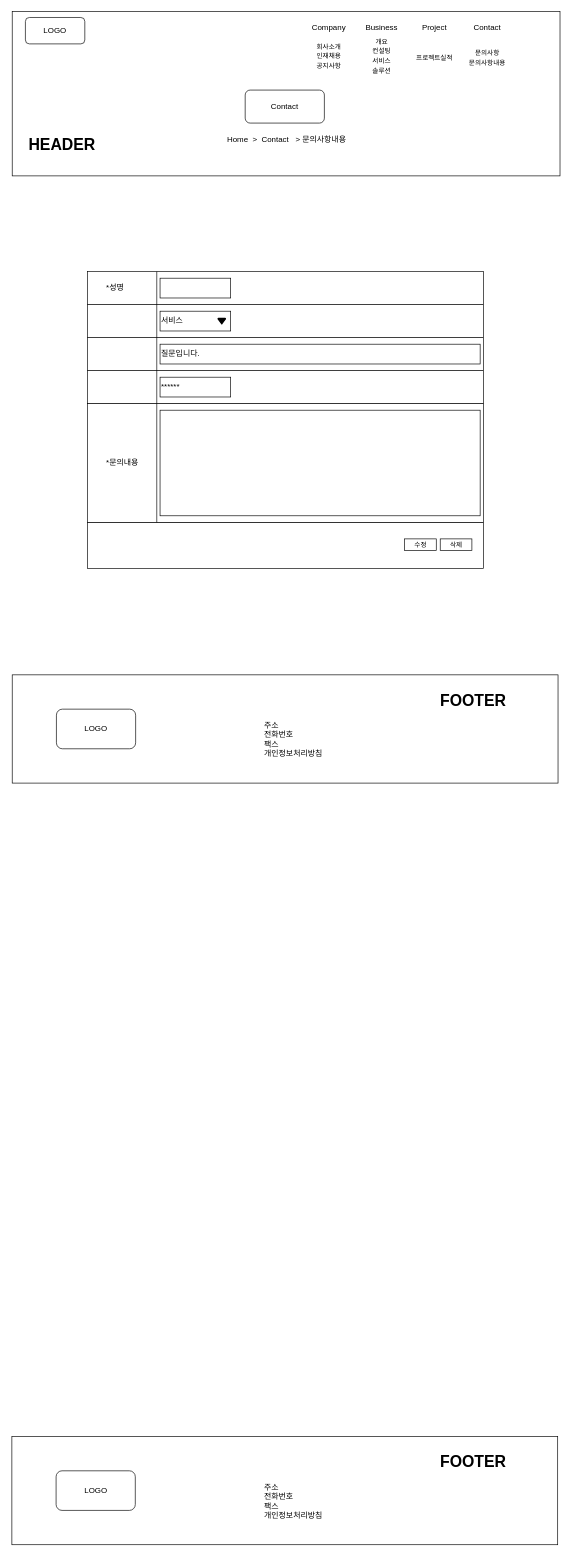
The diagram is 572 pixels wide and 1556 high, and some of its shapes have lost their labels. The shapes that lost their labels are listed below. From the top down, each one's box as (x1, y1, x2, y2) in pixels, then its label:
(87, 225, 483, 271): 문의내용 (*필수입력)
(159, 278, 231, 298): 임현우
(87, 304, 483, 338): *유형
(87, 337, 483, 371): *제목
(87, 370, 483, 404): *비밀번호
(159, 410, 480, 516): 테스트 입니다.
